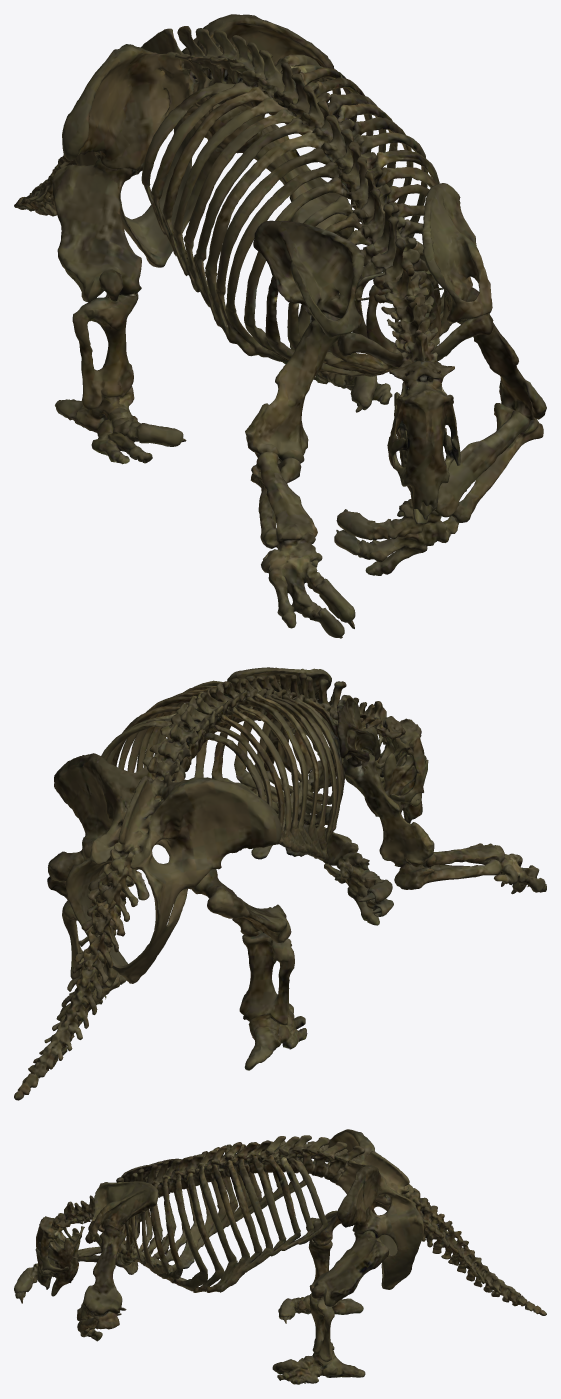
The model's file is eremotherium.gltf.
The picture shows the model from 3 angles, top to bottom: view 1: azimuth 30°, elevation 25°; view 2: azimuth 150°, elevation 25°; view 3: azimuth 270°, elevation 25°; orthographic projection. The views are drawn at different scales.
Bounding box in the file's own units: 1786 × 1942 × 4336.
1 material, 1 textured.
